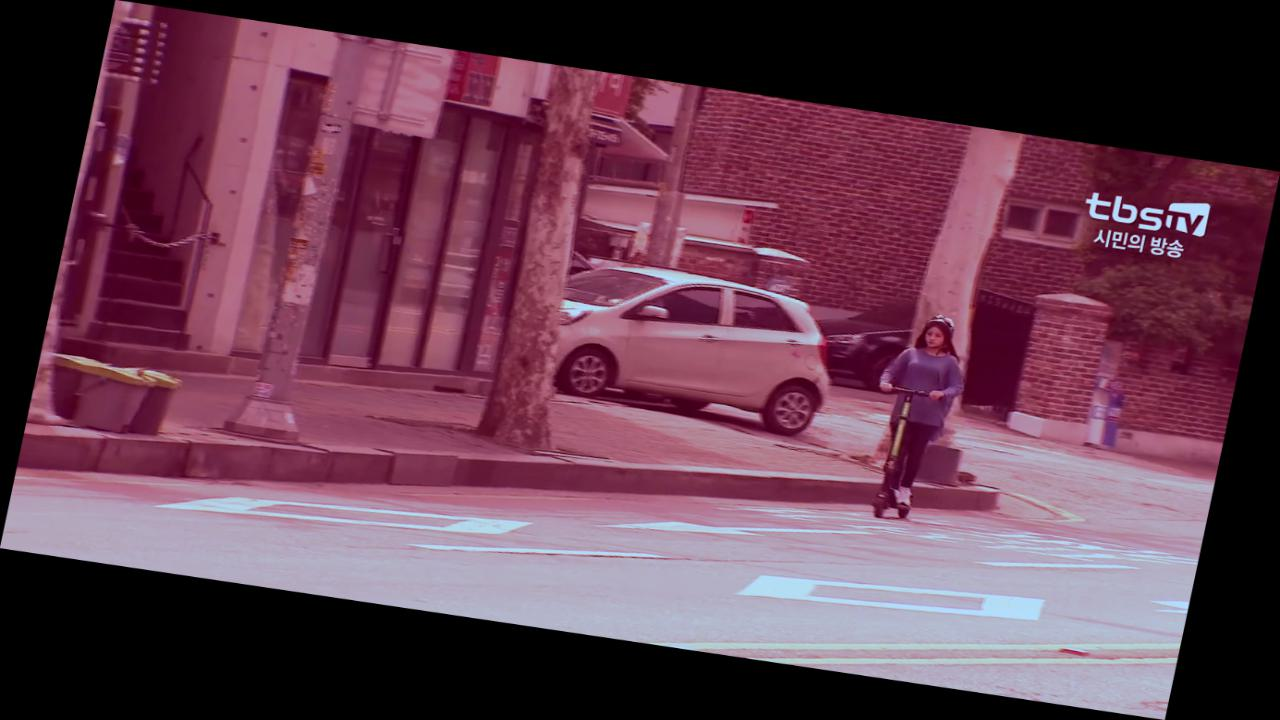helmet: (849, 307, 979, 525)
